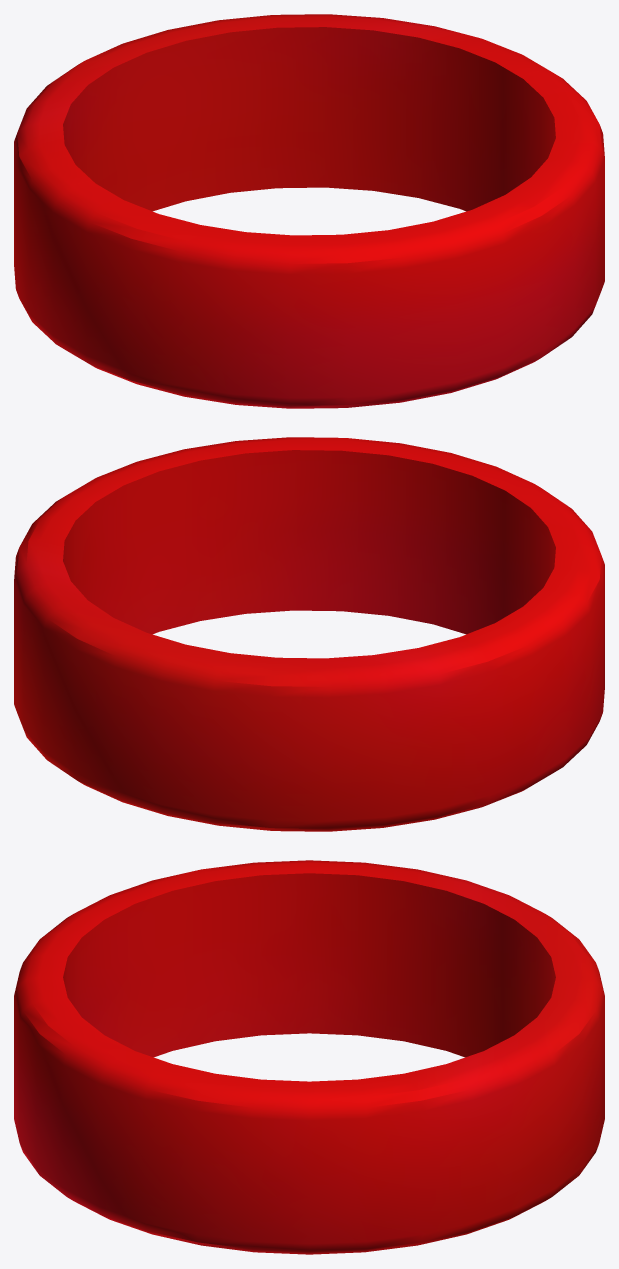
The model's file is fish_sauce_bottom_nap.fbx.
3 renders of one model, top to bottom at view 1: azimuth 30°, elevation 25°; view 2: azimuth 150°, elevation 25°; view 3: azimuth 270°, elevation 25°, orthographic.
Visible parts, largest first — view 1: fish_sauce_bottom_nap; view 2: fish_sauce_bottom_nap; view 3: fish_sauce_bottom_nap.
Part boxes in pixels (left/top/right/bottom): fish_sauce_bottom_nap: left=14, top=14, right=604, bottom=408; fish_sauce_bottom_nap: left=14, top=437, right=604, bottom=831; fish_sauce_bottom_nap: left=14, top=860, right=604, bottom=1254.
Size of the model in its own units: 7.21 by 2.16 by 7.21.
Materials: 1 (1 with a texture image).
